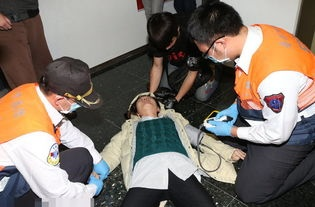falling: (98, 83, 244, 207)
